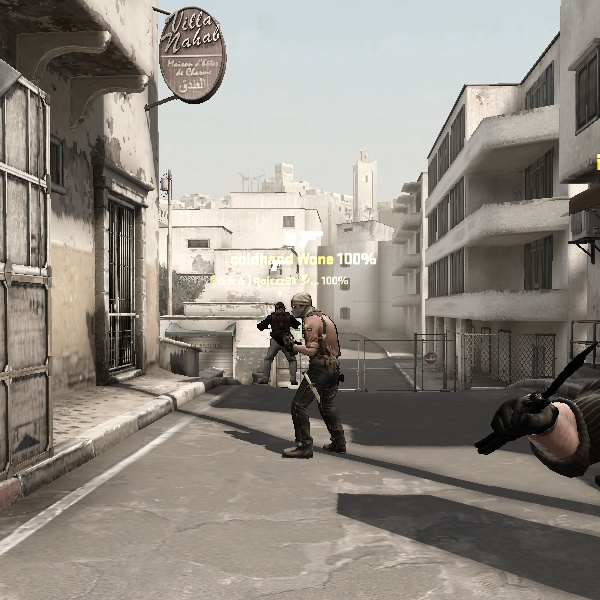t_body: (259, 287, 359, 458)
t_head: (283, 289, 318, 324)
